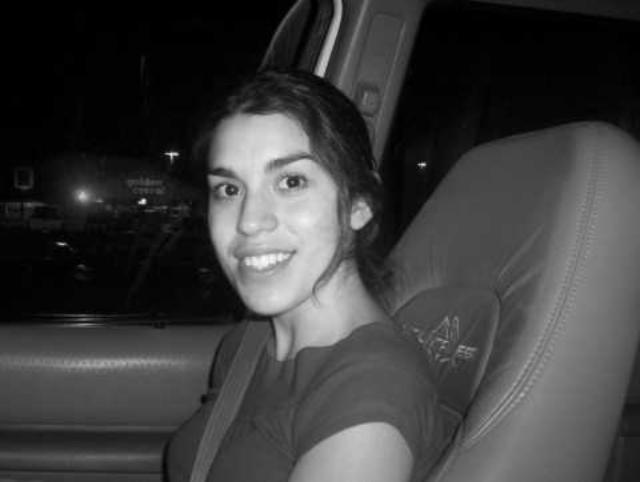SafeDriving: (202, 168, 252, 205), (268, 160, 317, 196)
Seatbelt: (186, 308, 276, 482)
